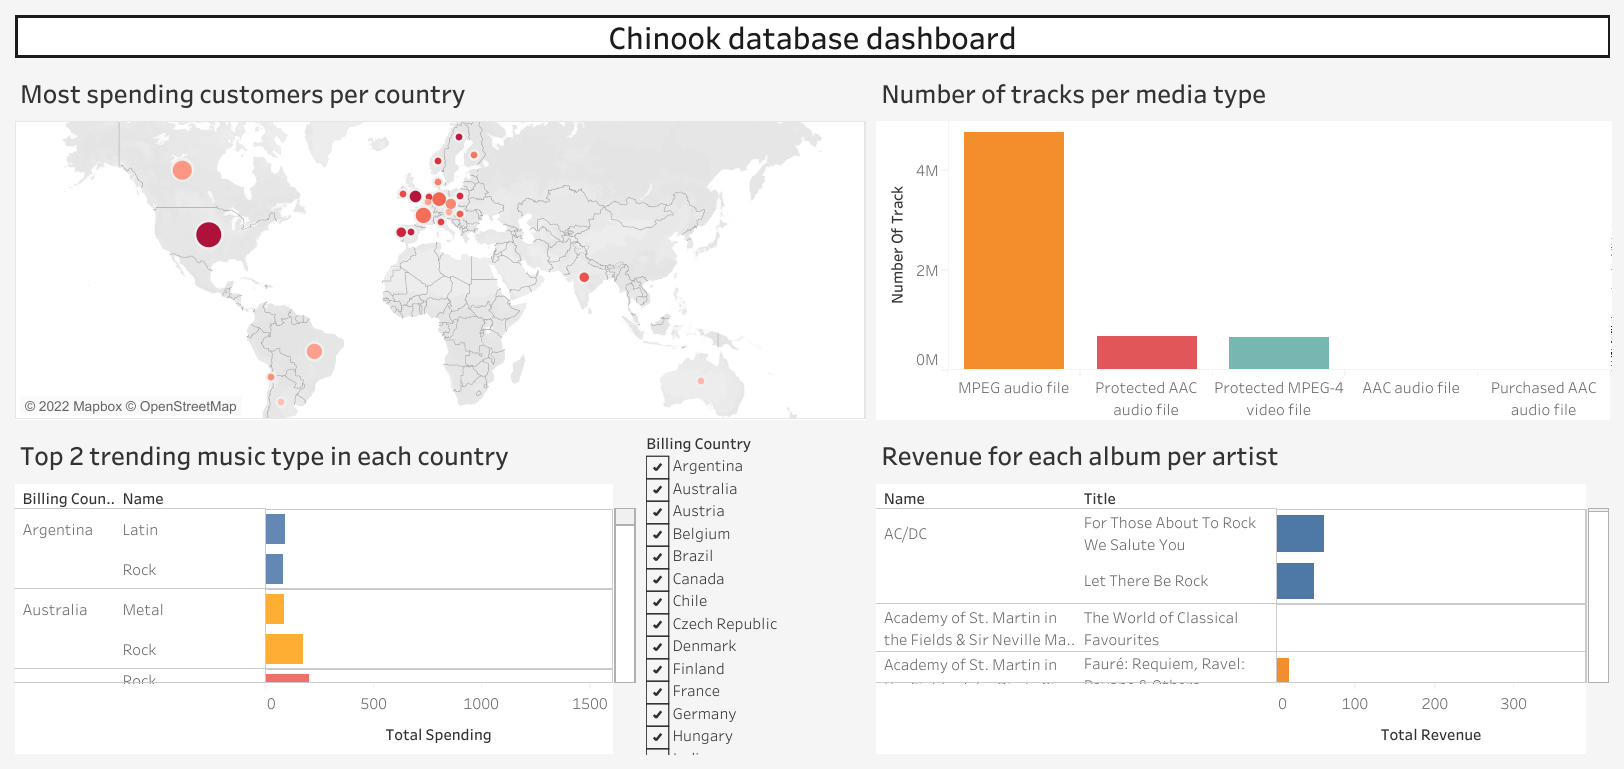

What the dashboard file says about the page in this screenshot:
{"tool":"tableau","page":{"name":"Dashboard 1","canvas":[1000,1000],"units":"permille","ordinal":0},"visuals":[{"type":"title","box":[6.2,9.3,987.7,57]},{"type":"worksheet","title":"Sheet 2","mark":"Automatic","box":[6.2,66.3,530,480.2]},{"type":"worksheet","title":"Sheet 1","mark":"Automatic","rows":["NumberOfTrack"],"cols":["Name"],"box":[536.1,66.3,457.7,480.2]},{"type":"worksheet","title":"Sheet 3","mark":"Automatic","rows":["BillingCountry","Name"],"cols":["TotalSpending"],"box":[6.2,546.5,388.5,444.2]},{"type":"filter","title":"Sheet 3","param":"[federated.1lwb1w307d522m1ggxvo71k1mumn].[none:BillingCountry:nk]","box":[394.6,546.5,141.5,444.2]},{"type":"worksheet","title":"Sheet 4","mark":"Automatic","rows":["Name","Title"],"cols":["TotalRevenue"],"box":[536.1,546.5,457.7,444.2]}]}

Visuals, with their boxes on the dashboard's canvas, which has no fixed pixel size, in thousandths of its width and height (x1, y1, x2, y2). These are canvas units, not pixel positions in the 1624x769 screenshot, which may show the page scaled, cropped or inside an application window:
title: bbox=(6, 9, 994, 66)
"Sheet 2" worksheet: bbox=(6, 66, 536, 546)
"Sheet 1" worksheet: bbox=(536, 66, 994, 546)
"Sheet 3" worksheet: bbox=(6, 546, 395, 991)
"Sheet 3" filter: bbox=(395, 546, 536, 991)
"Sheet 4" worksheet: bbox=(536, 546, 994, 991)
